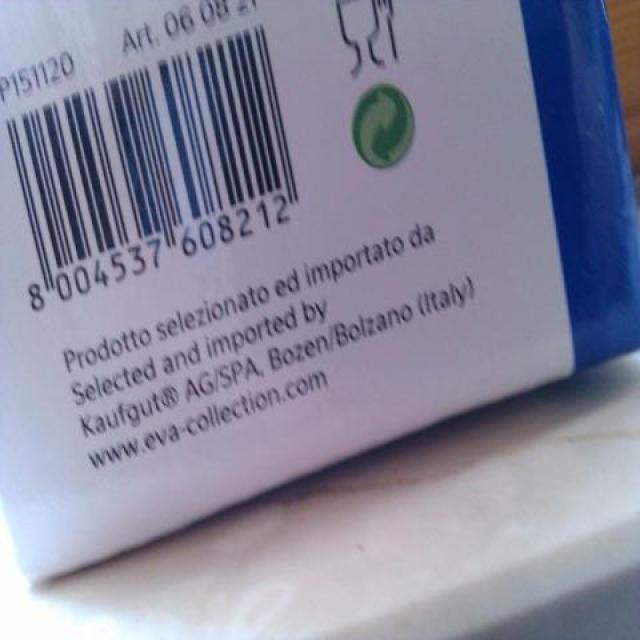Barcode: (4, 14, 320, 318)
